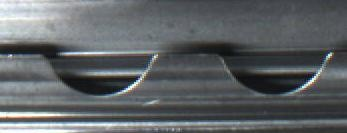twou: (56, 43, 316, 105)
